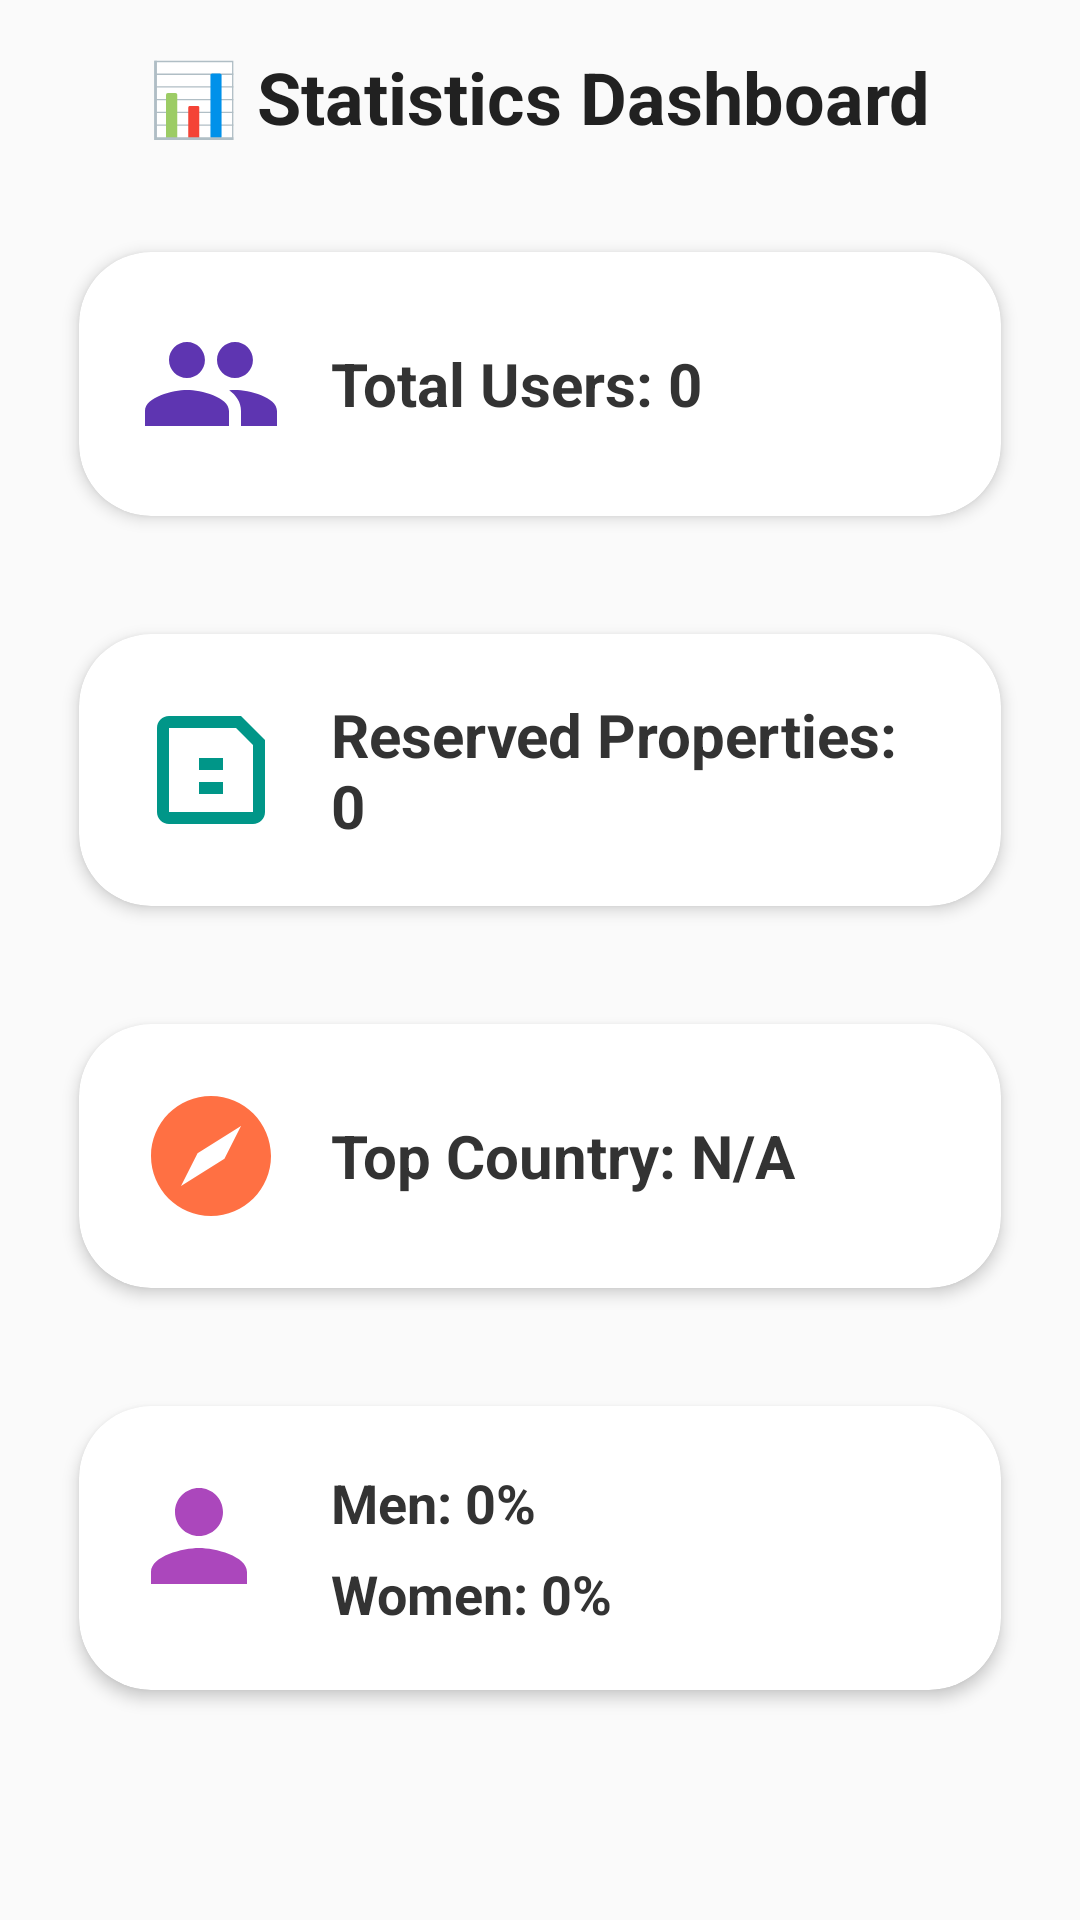

Named icons in this screenshot (1080px×1920px) and their centers, point (x, y):
compass: point (211, 1156)
people: point (211, 384)
